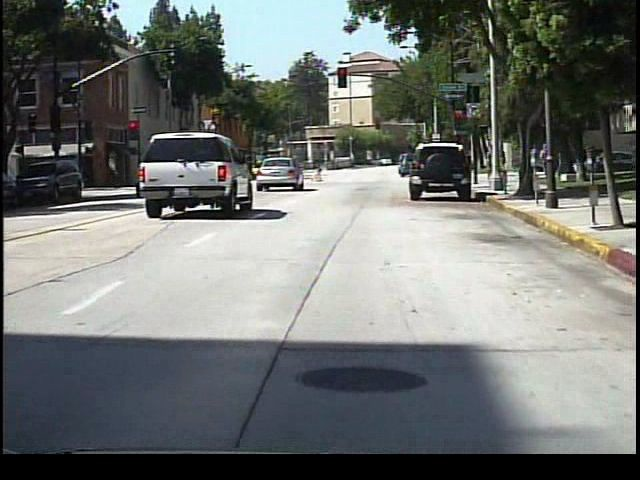person: (536, 140, 555, 183), (460, 152, 477, 183), (312, 155, 328, 184)
